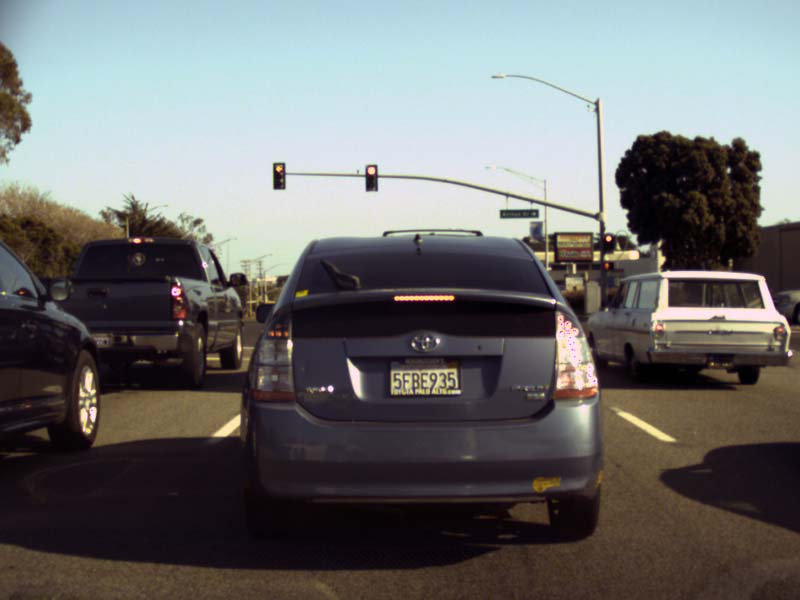Red: (272, 161, 285, 188), (365, 163, 377, 191), (602, 234, 613, 252)
